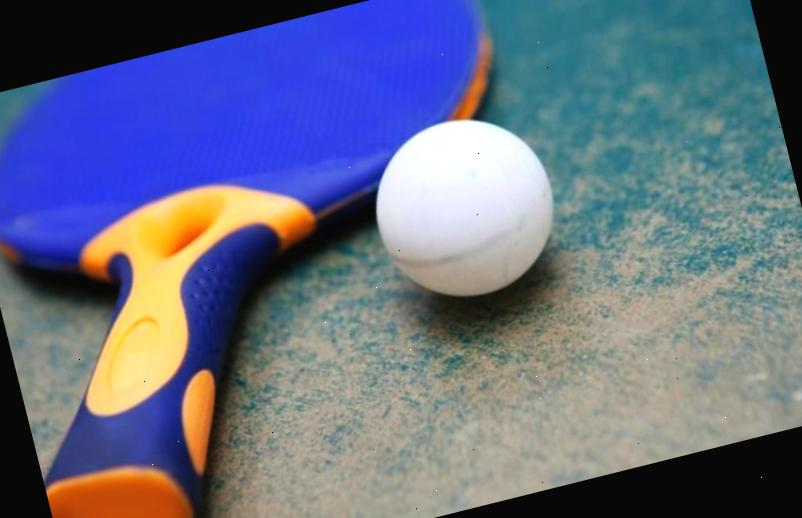ball: (344, 91, 579, 324)
